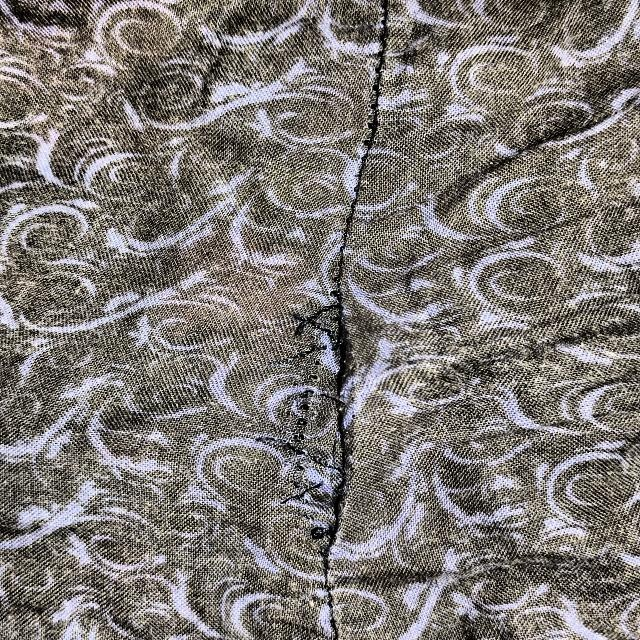seam: (242, 259, 435, 599)
